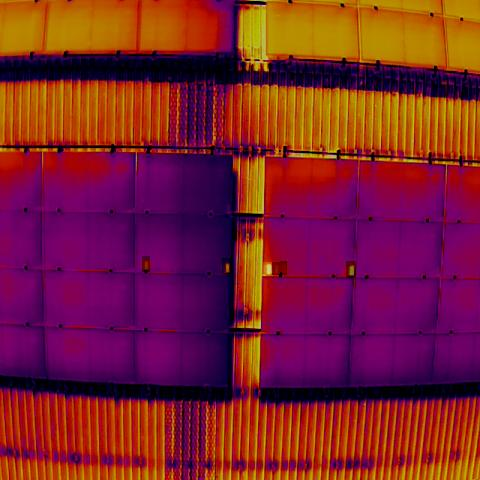fault: (346, 261, 356, 278), (222, 258, 232, 274), (263, 262, 273, 276), (142, 256, 150, 272), (272, 262, 280, 275), (280, 262, 287, 275)
